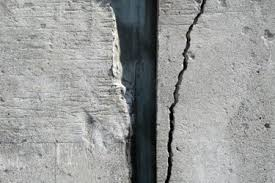crack: (163, 0, 206, 182)
